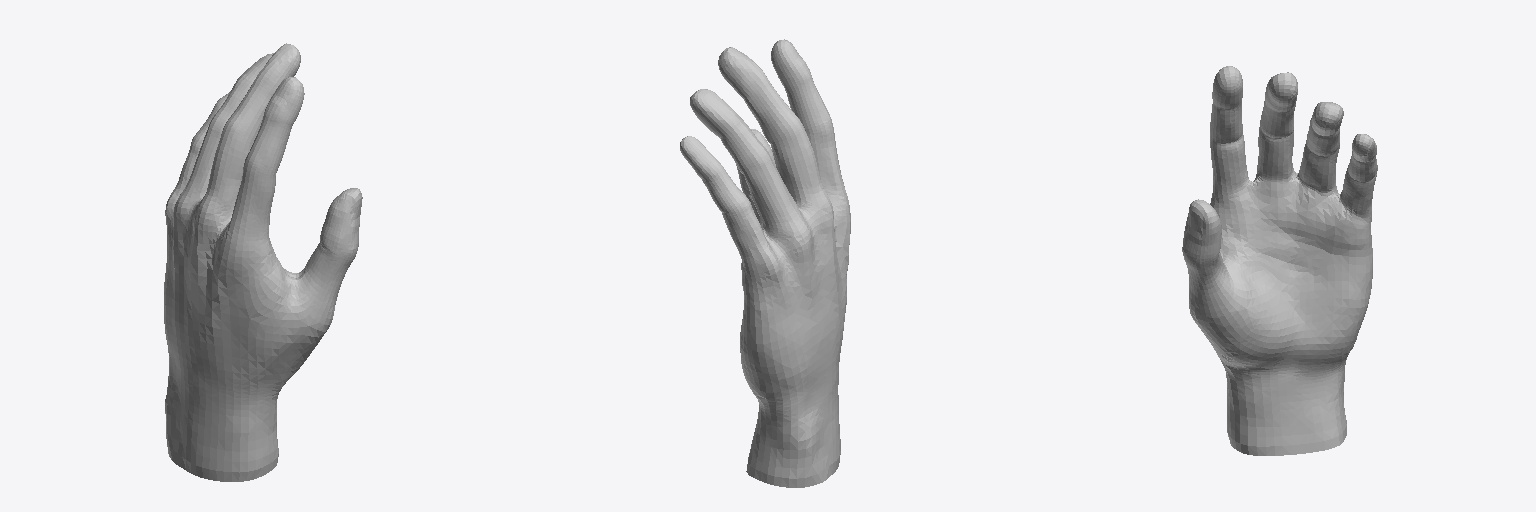
The model's file is 3D hand.obj.
3 renders of one model, left to right at view 1: azimuth 30°, elevation 25°; view 2: azimuth 150°, elevation 25°; view 3: azimuth 270°, elevation 25°, orthographic.
Visible parts, largest first — view 1: Hand_3D.003_Plane.004; view 2: Hand_3D.003_Plane.004; view 3: Hand_3D.003_Plane.004.
Part boxes in pixels (left/top/right/bottom): Hand_3D.003_Plane.004: left=164, top=43, right=362, bottom=481; Hand_3D.003_Plane.004: left=680, top=39, right=850, bottom=487; Hand_3D.003_Plane.004: left=1182, top=66, right=1377, bottom=455.
Size of the model in its own units: 0.0675 by 0.1877 by 0.0828.